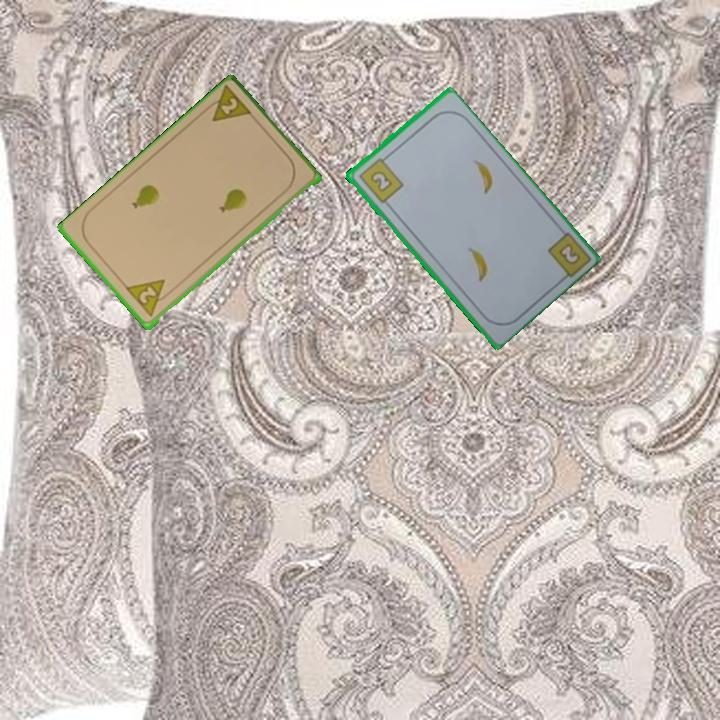2b: (355, 152, 406, 206), (555, 239, 581, 266)
2p: (199, 83, 256, 125), (123, 276, 175, 320)
